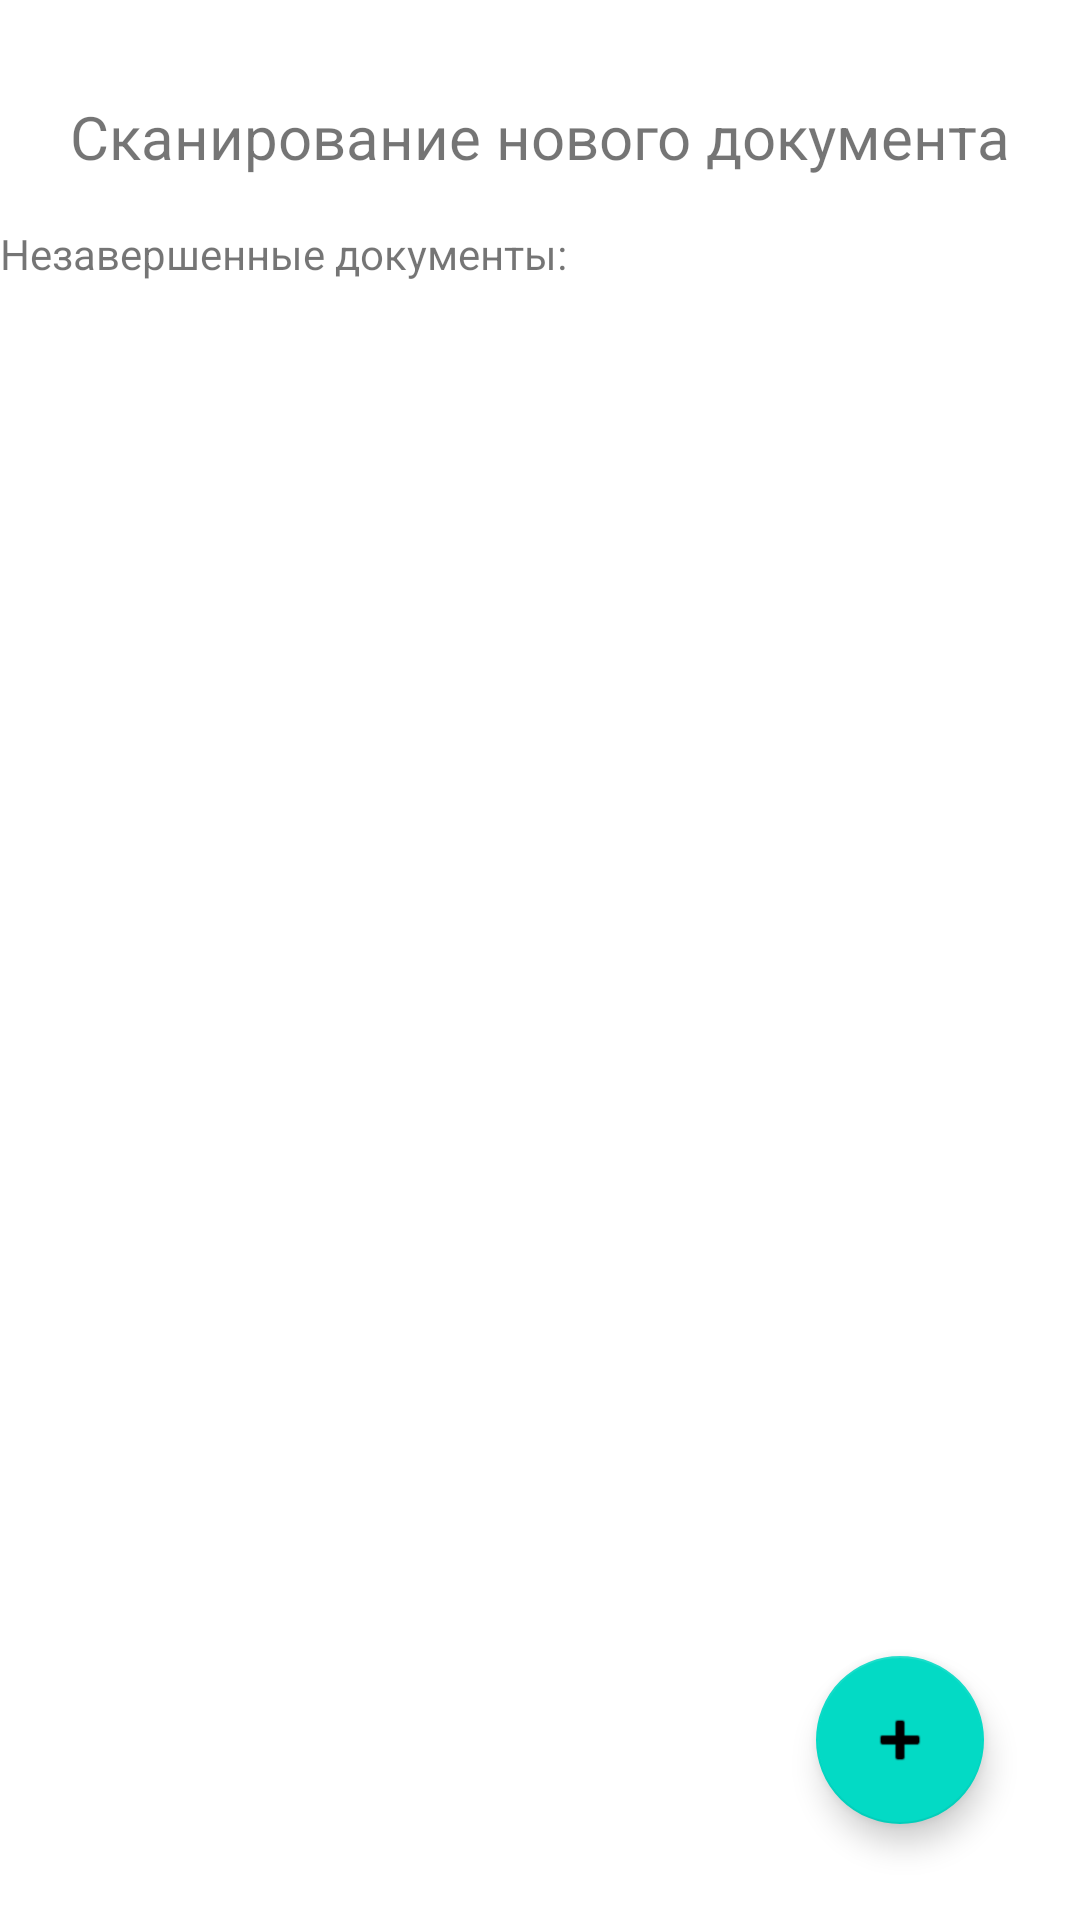

Icon click points for this 1080px x 1920px phone screenshot, format (x,y):
Добавить документ: (900,1740)
